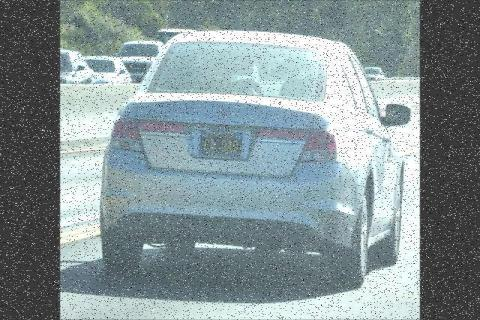LicensePlate: (191, 120, 247, 162)
